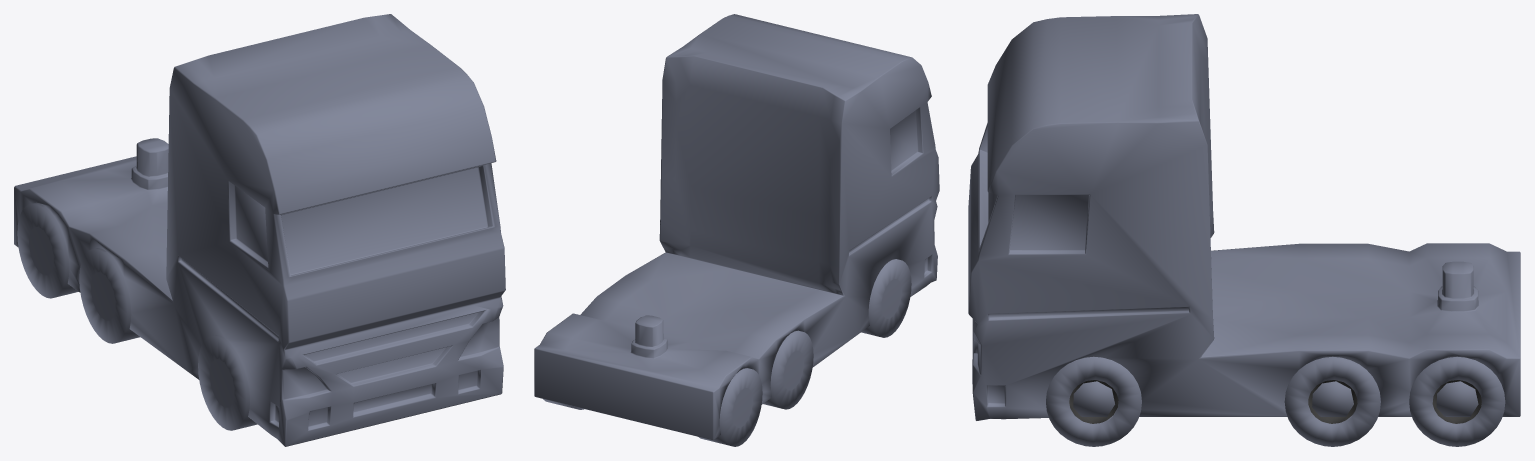
The picture shows the model from 3 angles, left to right: view 1: azimuth 30°, elevation 25°; view 2: azimuth 150°, elevation 25°; view 3: azimuth 270°, elevation 25°; orthographic projection. The views are drawn at different scales.
Parts seen in each view (by area): view 1: body; view 2: body; view 3: body, wheel, wheel.002.
Boxes of the visible parts, x1,y1,x2,y2 form: body: (14, 14, 505, 446); body: (534, 14, 939, 446); body: (968, 14, 1520, 446); wheel: (1308, 380, 1357, 423); wheel.002: (1432, 380, 1481, 423).
Bounding box in the file's own units: 2.61 × 3.64 × 5.5.
